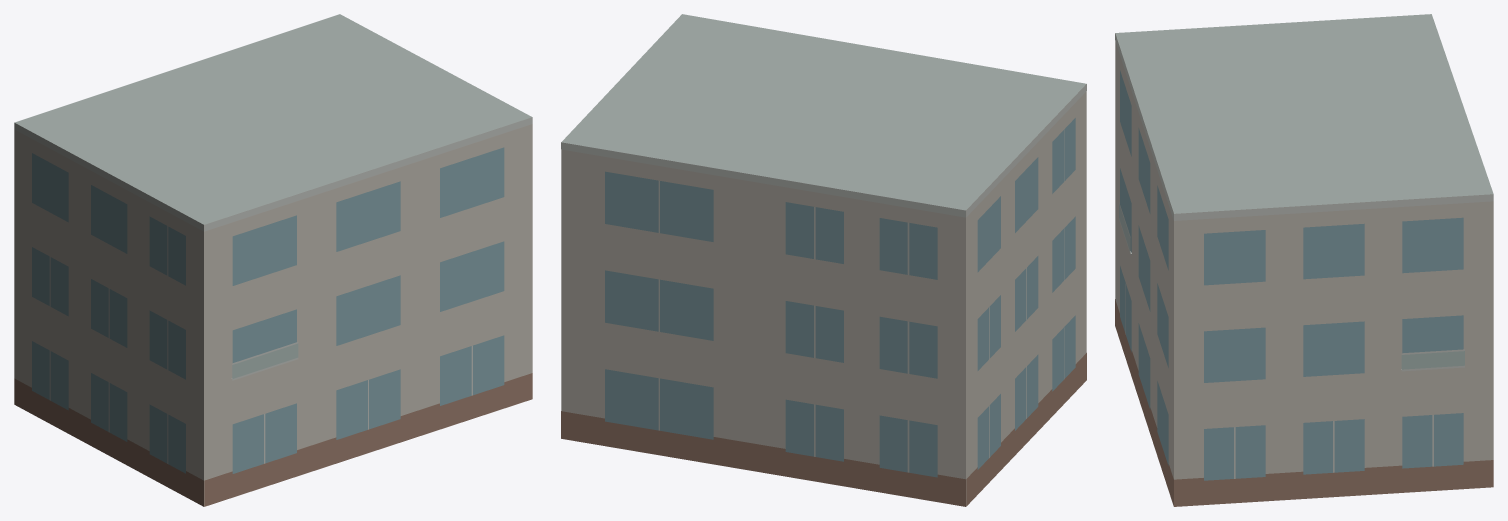
File: survey-upis-32736063.glb
3 views of the same model, side by side, from view 1: azimuth 30°, elevation 25°; view 2: azimuth 150°, elevation 25°; view 3: azimuth 270°, elevation 25° (orthographic). The views are drawn at different scales.
Visible parts, largest first — view 1: survey-upis-32736063.tmp; view 2: survey-upis-32736063.tmp; view 3: survey-upis-32736063.tmp.
Part boxes in pixels (x1=…): survey-upis-32736063.tmp: x1=14, y1=14, x2=532, y2=506; survey-upis-32736063.tmp: x1=561, y1=14, x2=1086, y2=506; survey-upis-32736063.tmp: x1=1115, y1=14, x2=1493, y2=506.
Size of the model in its own units: 14.79 by 10.1 by 11.84.
